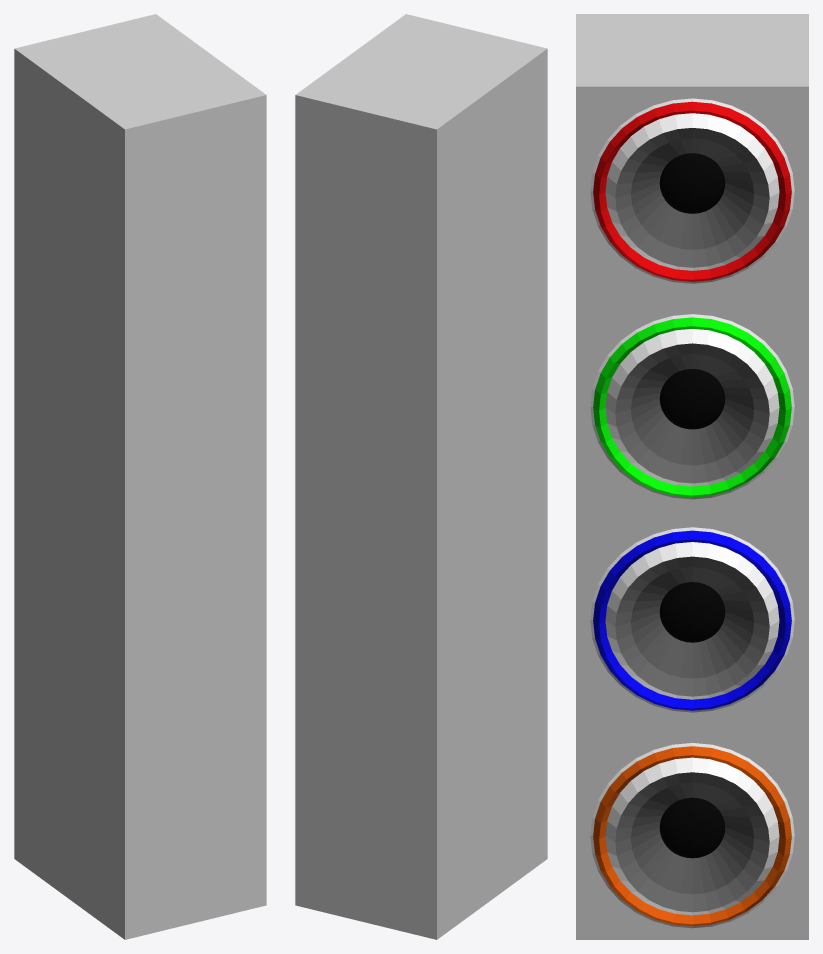
Rendered from Speaker.fbx.
3 renders of one model, left to right at view 1: azimuth 30°, elevation 25°; view 2: azimuth 150°, elevation 25°; view 3: azimuth 270°, elevation 25°, orthographic. The views are drawn at different scales.
Parts seen in each view (by area): view 1: Cube; view 2: Cube; view 3: Cube.
Boxes of the visible parts, bbox=[...] form: Cube: bbox=[14, 14, 266, 939]; Cube: bbox=[295, 14, 547, 939]; Cube: bbox=[576, 14, 808, 939].
Bounding box in the file's own units: 344 × 1721 × 426.
